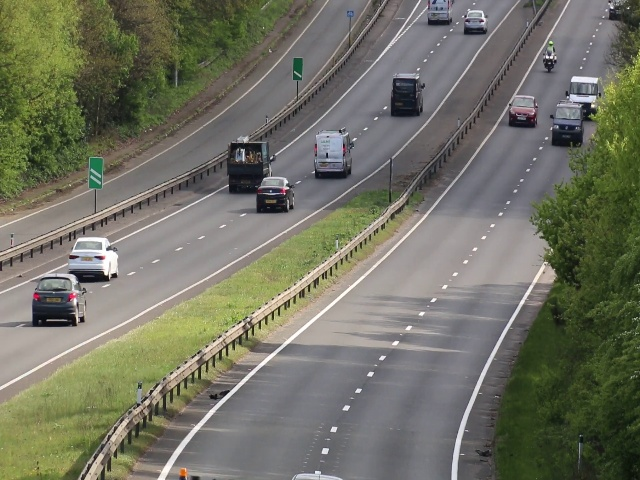car: (31, 273, 87, 326), (66, 237, 120, 275), (314, 131, 354, 177), (226, 137, 273, 175), (388, 74, 427, 117), (550, 105, 582, 149), (506, 92, 540, 131), (256, 178, 295, 212), (426, 1, 453, 27), (462, 8, 488, 32)
